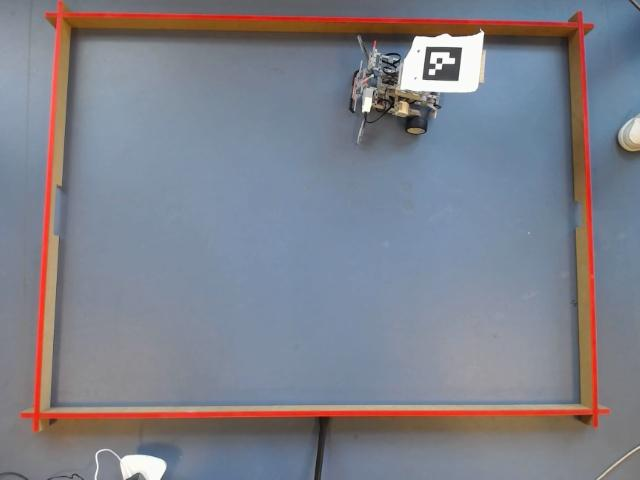ev3: (349, 31, 485, 141)
